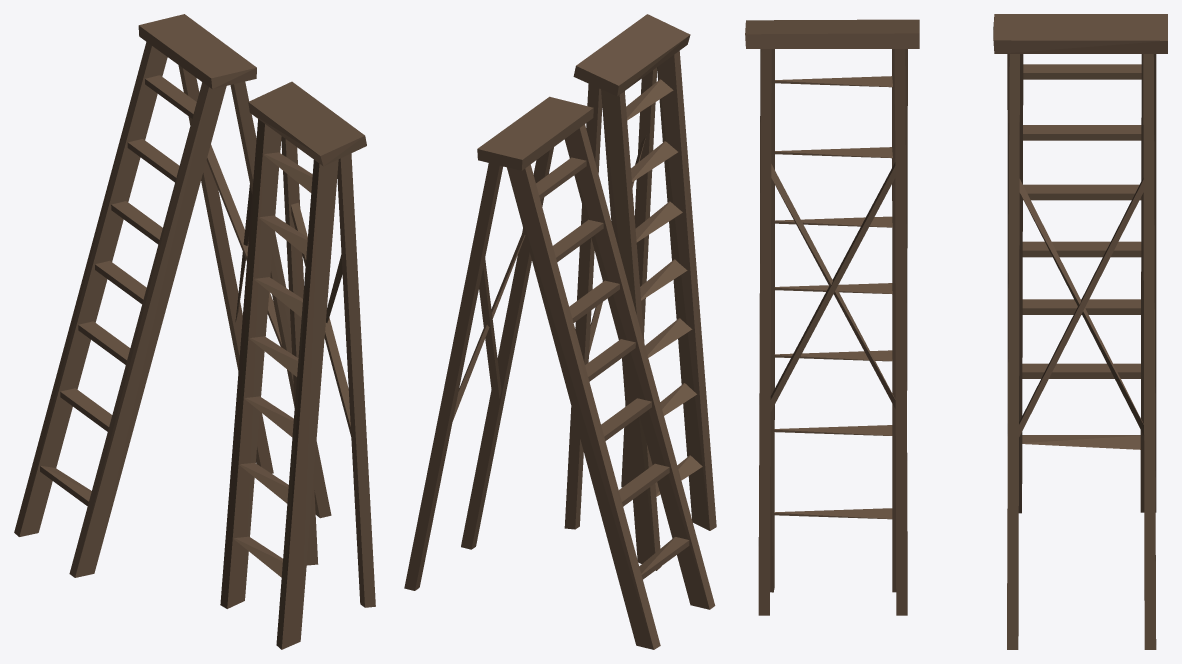
File: old-ladder.lod1.glb
The picture shows the model from 3 angles, left to right: view 1: azimuth 30°, elevation 25°; view 2: azimuth 150°, elevation 25°; view 3: azimuth 270°, elevation 25°; orthographic projection. The views are drawn at different scales.
Parts seen in each view (by area): view 1: Object_2; view 2: Object_2; view 3: Object_2.
Part boxes in pixels (<box>): Object_2: <box>14,14,375,649</box>; Object_2: <box>404,14,716,649</box>; Object_2: <box>745,14,1167,649</box>.
Bounding box in the file's own units: 1.71 × 3.2 × 2.05.
